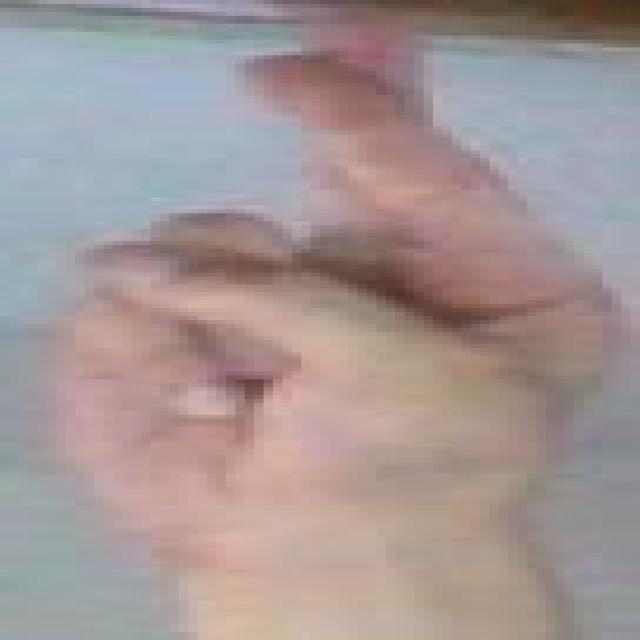R: (46, 0, 640, 640)
